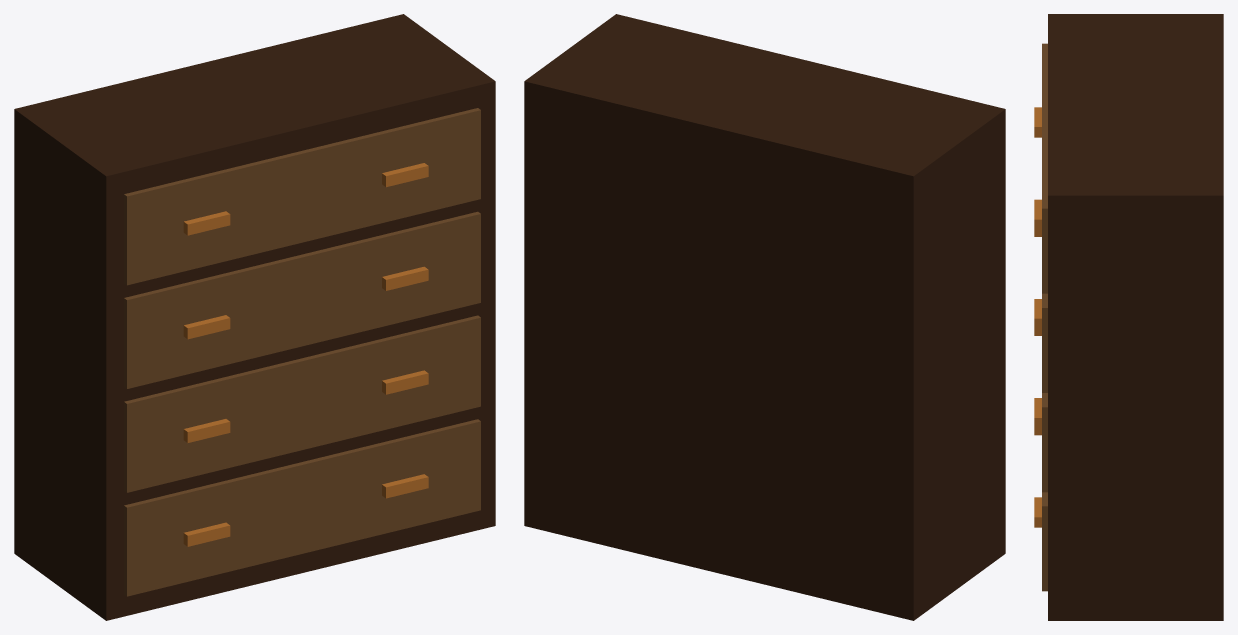
The model's file is Tansu.fbx.
3 renders of one model, left to right at view 1: azimuth 30°, elevation 25°; view 2: azimuth 150°, elevation 25°; view 3: azimuth 270°, elevation 25°, orthographic. The views are drawn at different scales.
Parts seen in each view (by area): view 1: Tansu; view 2: Tansu; view 3: Tansu.
Part boxes in pixels (<box>): Tansu: <box>14,14,495,620</box>; Tansu: <box>524,14,1005,620</box>; Tansu: <box>1034,14,1223,620</box>.
Bounding box in the file's own units: 1.1 × 1.2 × 0.485.
